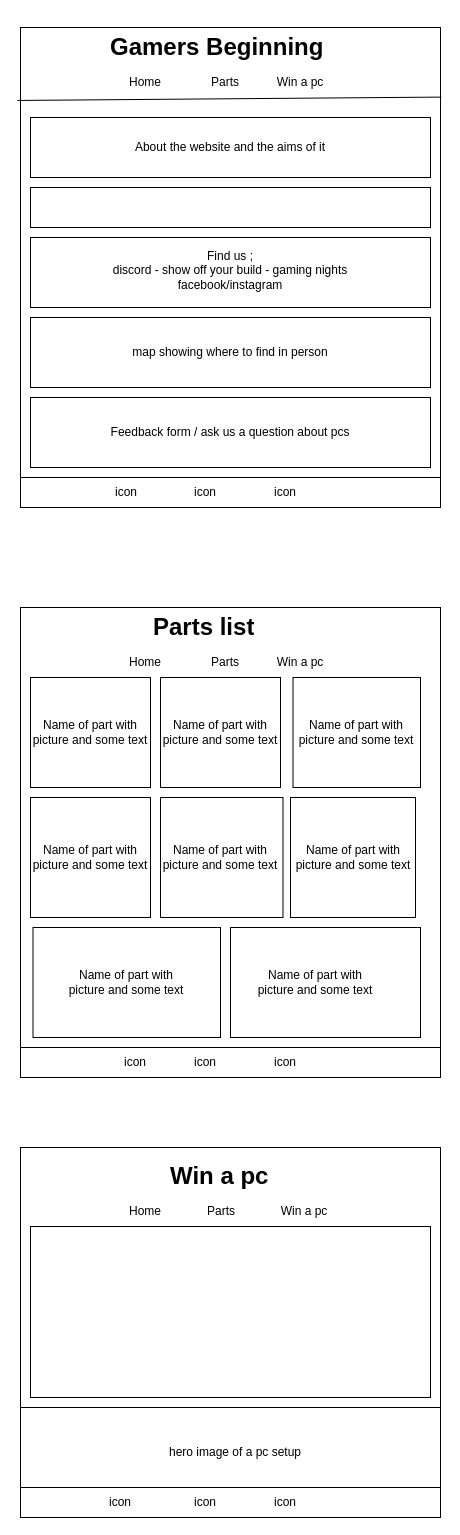
Some shapes in this 460 by 1535 pixel diagram are drawn without their labels. Each missing label, with the centre of its shape:
Form about user details, gaming habbits and a feedback textarea.: (230,1312)
parts picker and tips for picking parts: (230,207)
